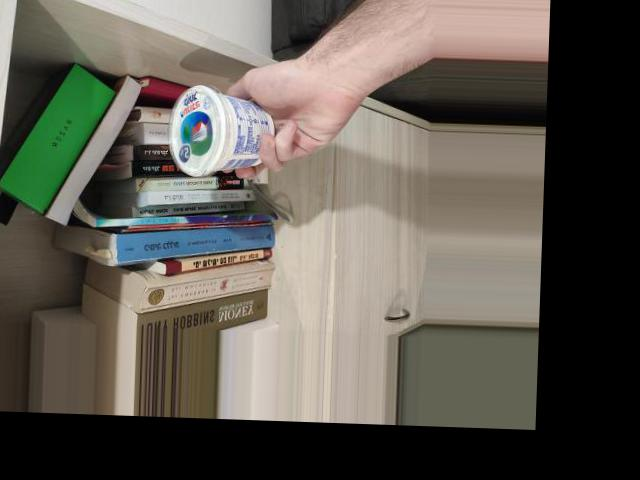cotage: (163, 89, 292, 180)
